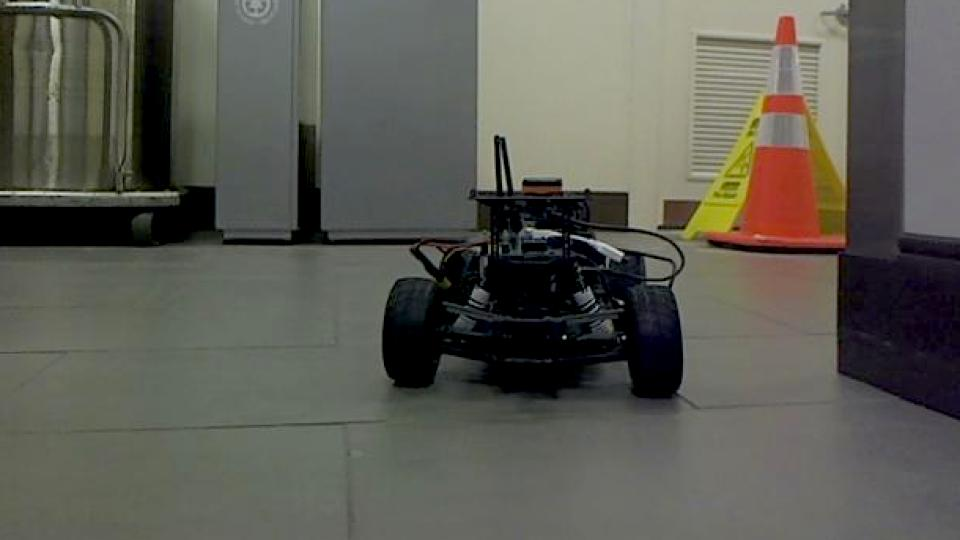car: (378, 133, 689, 401)
